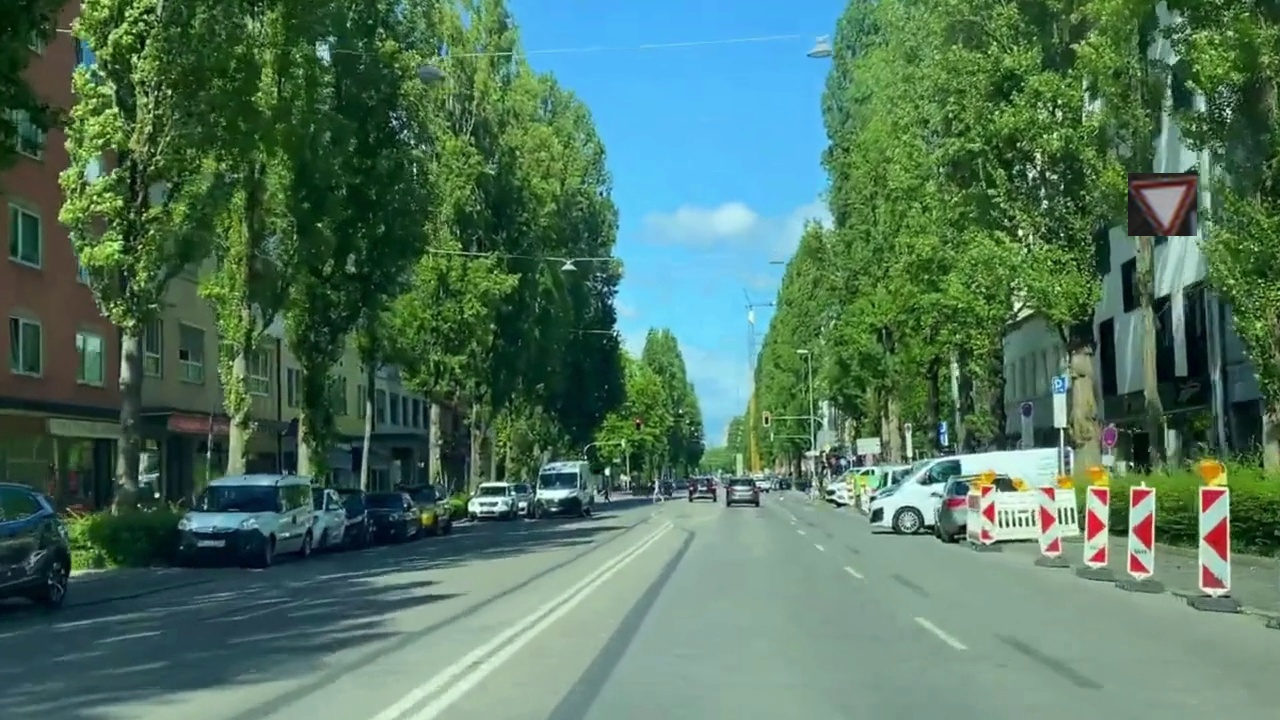Yield: (1128, 173, 1197, 236)
